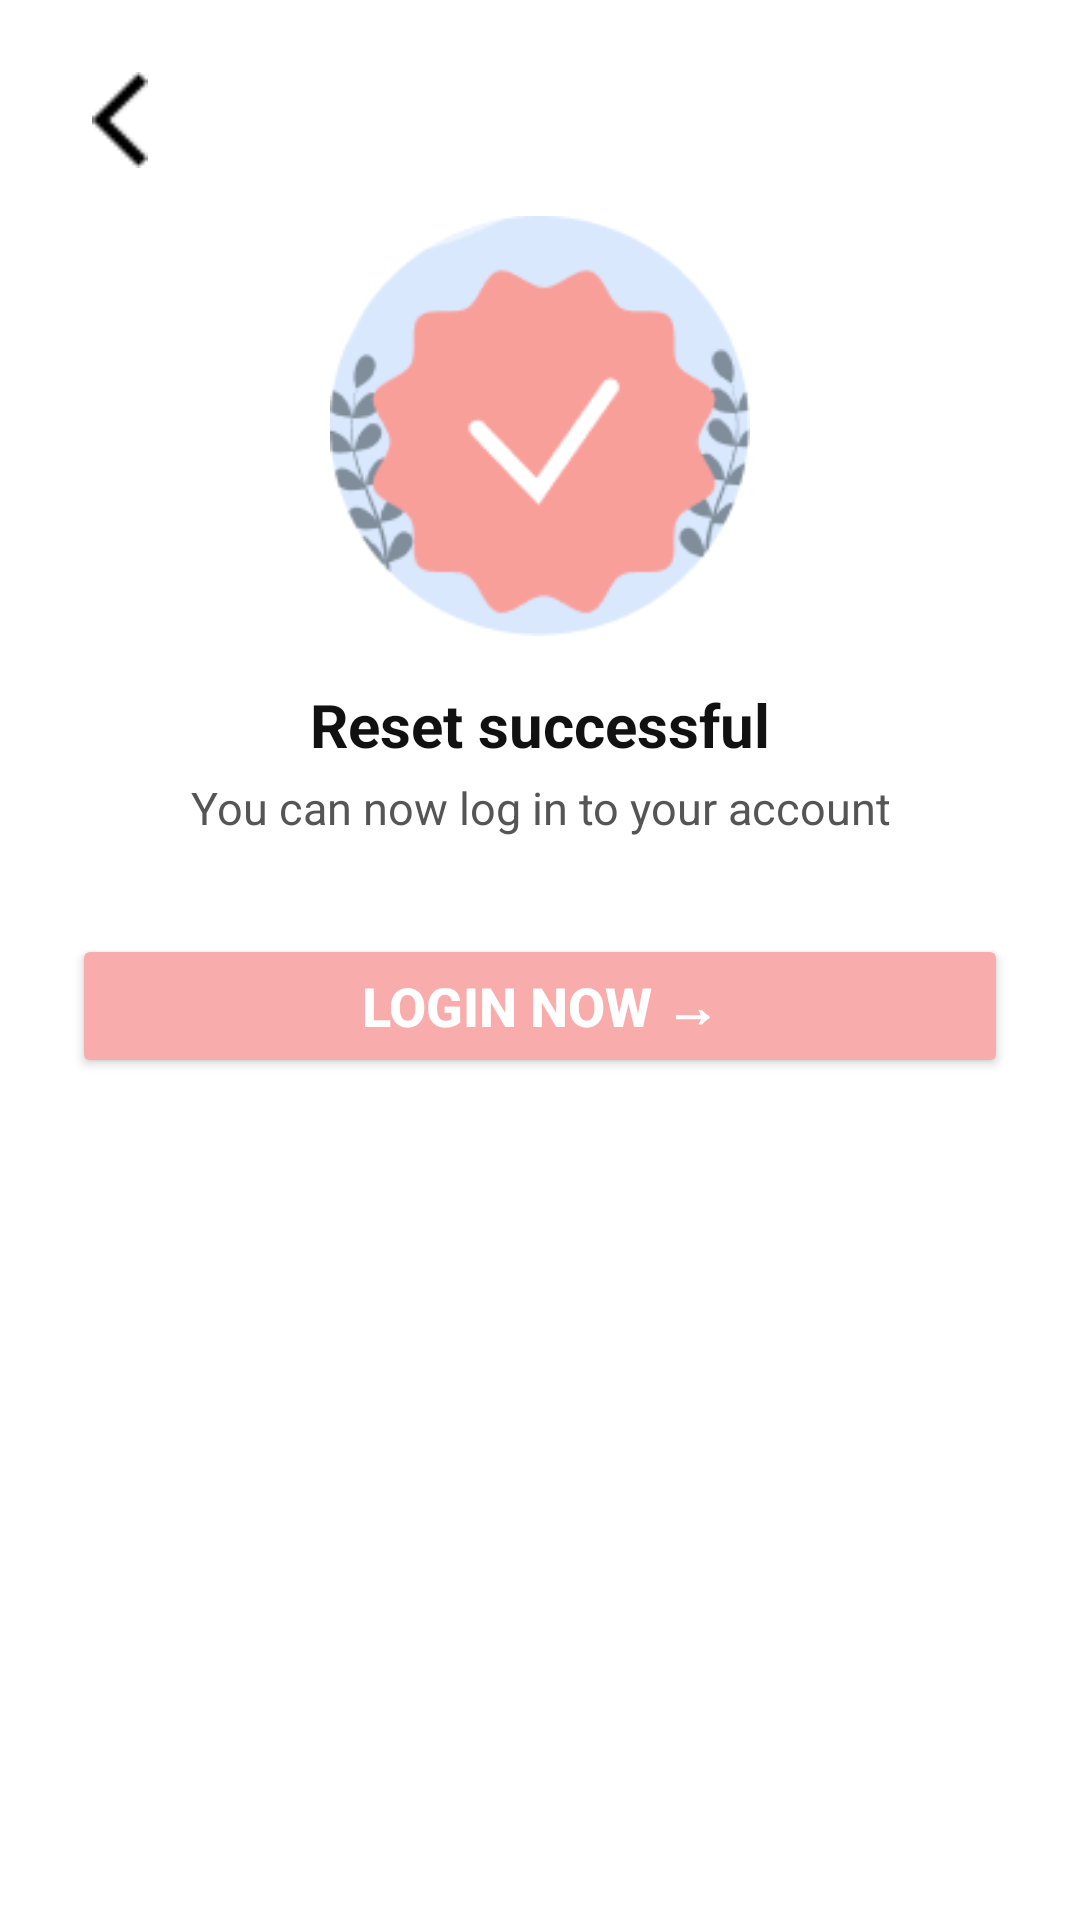

Icon bounding boxes for this 1080px x 1920px phone screenshot, format Rect(x1, y1, x2, y2):
Back: Rect(92, 72, 148, 168)
